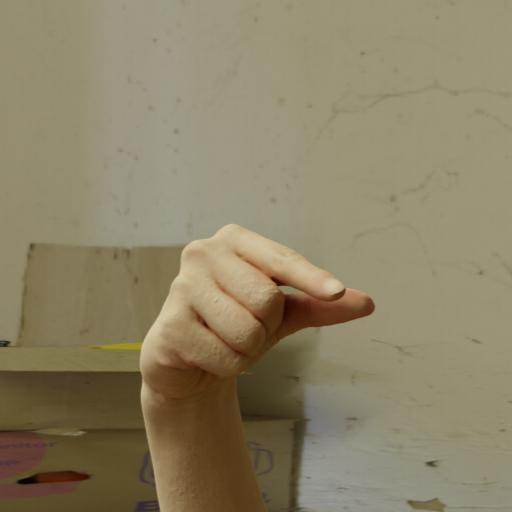G: (107, 212, 412, 436)
